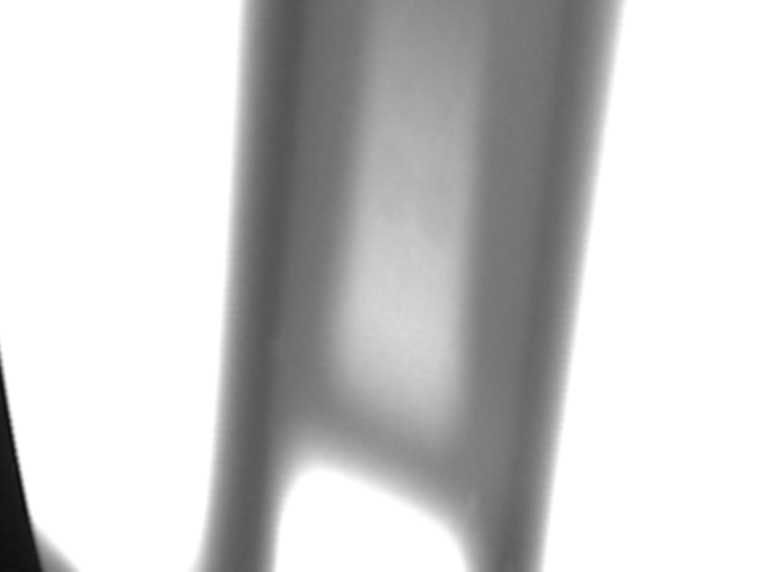defect: (268, 344, 289, 378)
